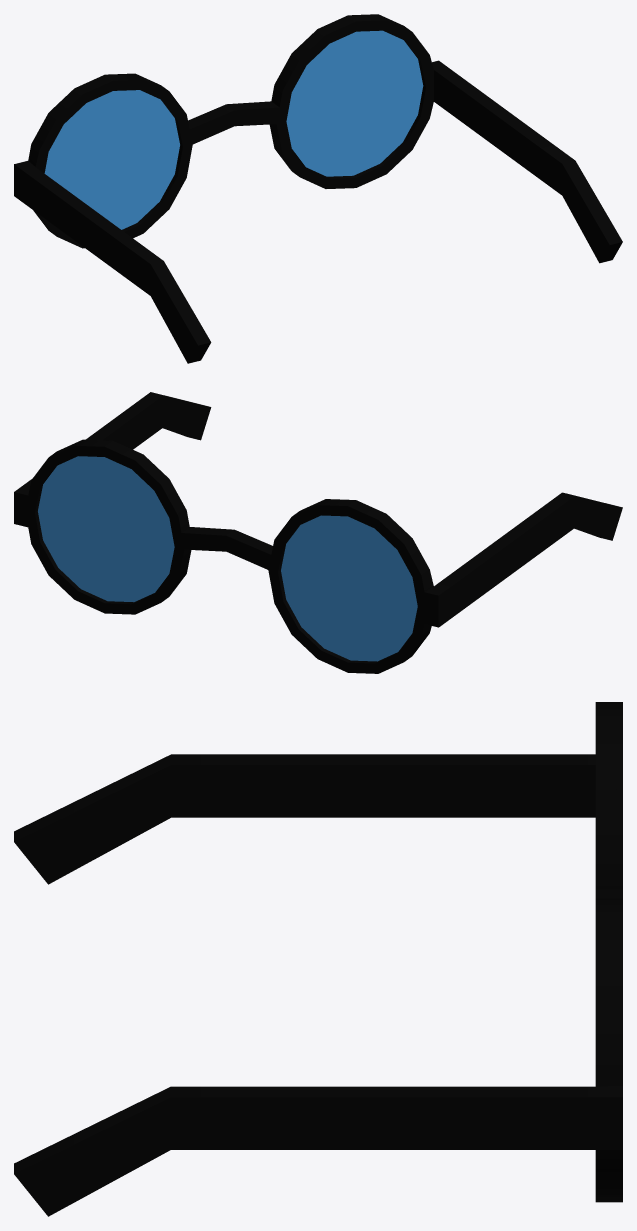
File: glasses_round.fbx
3 renders of one model, top to bottom at view 1: azimuth 30°, elevation 25°; view 2: azimuth 150°, elevation 25°; view 3: azimuth 270°, elevation 25°, orthographic. The views are drawn at different scales.
Parts seen in each view (by area): view 1: glasses_round; view 2: glasses_round; view 3: glasses_round.
Part boxes in pixels (x1,y1,x2,y2): glasses_round: (14, 14, 622, 363); glasses_round: (14, 392, 622, 673); glasses_round: (14, 702, 622, 1216).
Size of the model in its own units: 131 by 49.1 by 98.31.
